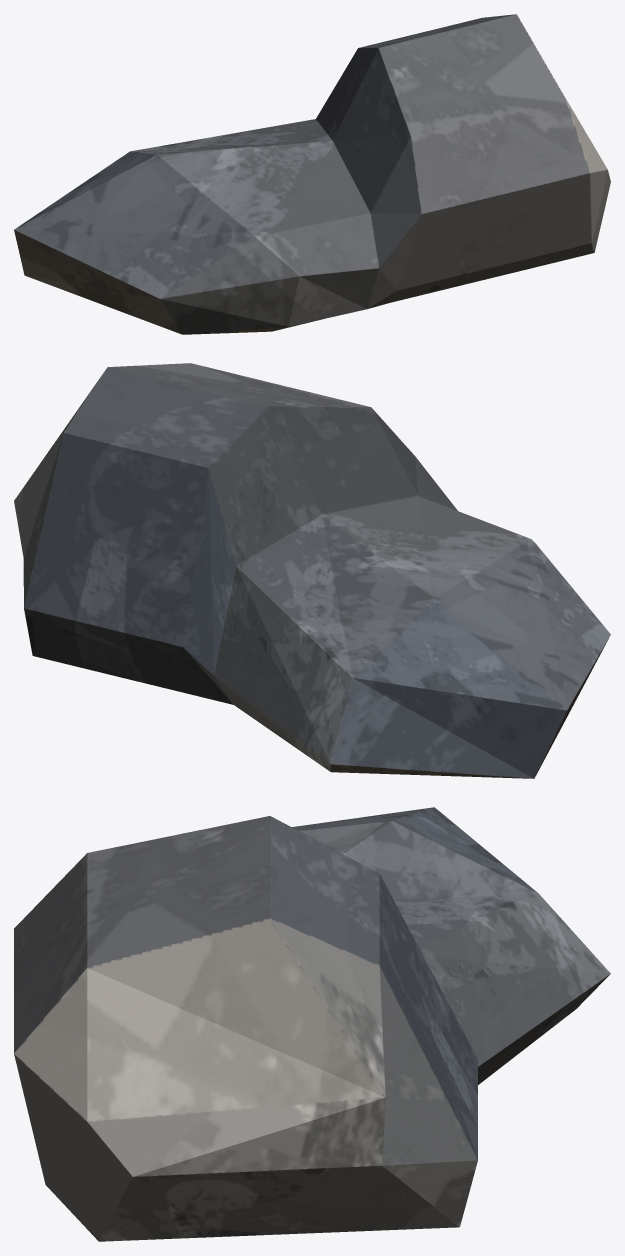
File: RockLM3.obj
3 views of the same model, one above another, from view 1: azimuth 30°, elevation 25°; view 2: azimuth 150°, elevation 25°; view 3: azimuth 270°, elevation 25° (orthographic). The views are drawn at different scales.
Parts seen in each view (by area): view 1: RockLM3; view 2: RockLM3; view 3: RockLM3.
Boxes of the visible parts, x1,y1,x2,y2 form: RockLM3: (14, 14, 610, 334); RockLM3: (14, 363, 610, 778); RockLM3: (14, 807, 610, 1241).
Bounding box in the file's own units: 2.38 × 0.9266 × 1.63.
